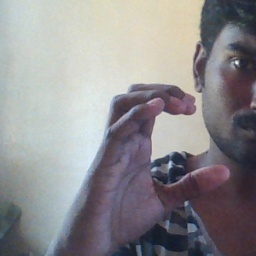C: (101, 79, 232, 202)
